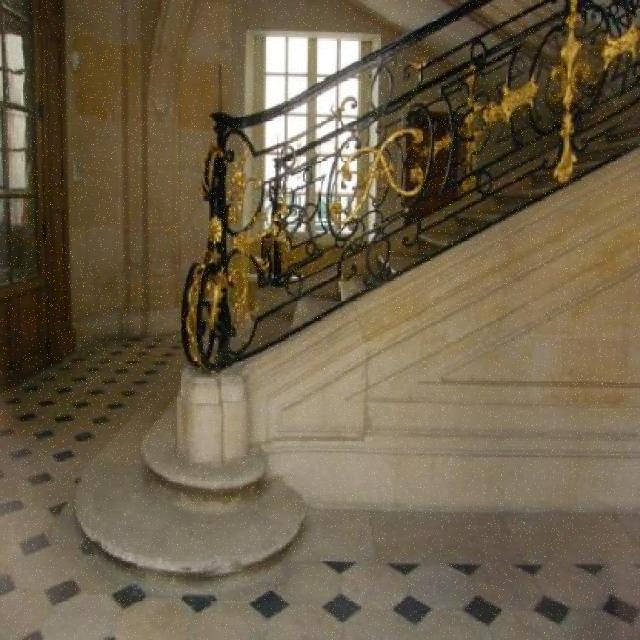stair: (72, 111, 640, 591)
